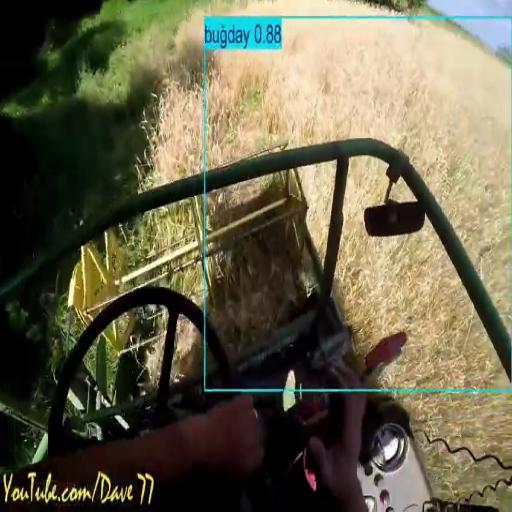bugday: (206, 20, 511, 332), (336, 157, 505, 386), (121, 12, 203, 192), (121, 204, 194, 261)
